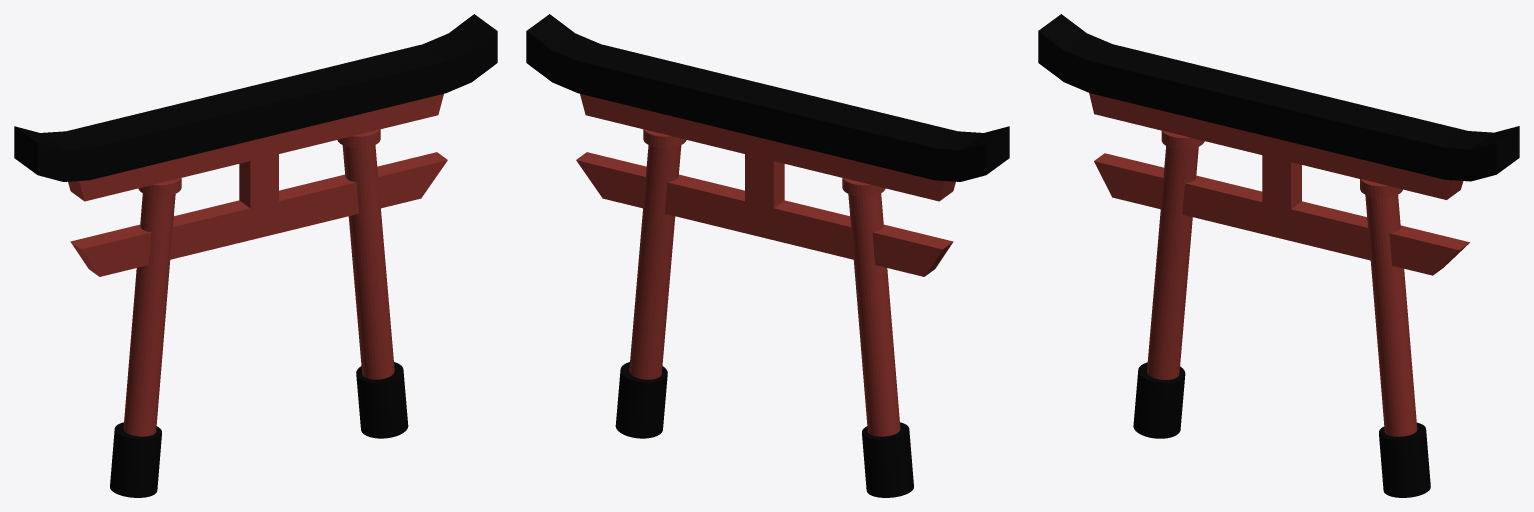
File: torii.glb
The picture shows the model from 3 angles, left to right: view 1: azimuth 30°, elevation 25°; view 2: azimuth 150°, elevation 25°; view 3: azimuth 330°, elevation 25°; orthographic projection.
Parts seen in each view (by area): view 1: Cube.002, Cube, Cube.003, Cylinder.001, Cube.001, Cylinder.003, Cylinder, Cylinder.004, Cube.004, Cylinder.002, Cylinder.005; view 2: Cube.002, Cube, Cube.003, Cylinder.001, Cube.001, Cylinder.003, Cylinder, Cylinder.004, Cube.004, Cylinder.002, Cylinder.005; view 3: Cube.002, Cube, Cylinder.003, Cube.001, Cylinder.001, Cube.003, Cylinder.004, Cylinder, Cube.004, Cylinder.002, Cylinder.005.
Boxes of the visible parts, x1,y1,x2,y2 form: Cube.002: [14, 44, 445, 181]; Cube: [70, 152, 447, 276]; Cube.003: [66, 14, 497, 148]; Cylinder.001: [123, 193, 175, 436]; Cube.001: [68, 94, 443, 201]; Cylinder.003: [342, 145, 394, 379]; Cylinder: [110, 422, 161, 497]; Cylinder.004: [356, 362, 408, 438]; Cube.004: [239, 154, 278, 226]; Cylinder.002: [138, 178, 181, 196]; Cylinder.005: [337, 129, 380, 148]; Cube.002: [578, 50, 1009, 181]; Cube: [576, 152, 953, 276]; Cube.003: [526, 14, 957, 143]; Cylinder.001: [848, 193, 900, 436]; Cube.001: [580, 94, 955, 201]; Cylinder.003: [629, 145, 681, 379]; Cylinder: [862, 422, 913, 497]; Cylinder.004: [615, 362, 667, 438]; Cube.004: [745, 154, 784, 228]; Cylinder.002: [842, 178, 885, 196]; Cylinder.005: [643, 129, 686, 148]; Cube.002: [1038, 14, 1467, 179]; Cube: [1094, 153, 1469, 275]; Cylinder.003: [1365, 195, 1417, 436]; Cube.001: [1089, 93, 1463, 199]; Cylinder.001: [1147, 146, 1198, 379]; Cube.003: [1236, 90, 1519, 181]; Cylinder.004: [1379, 422, 1430, 497]; Cylinder: [1133, 362, 1185, 438]; Cube.004: [1262, 155, 1301, 229]; Cylinder.002: [1161, 130, 1204, 149]; Cylinder.005: [1360, 179, 1402, 197].
Size of the model in its own units: 16.81 by 13.35 by 1.51.
